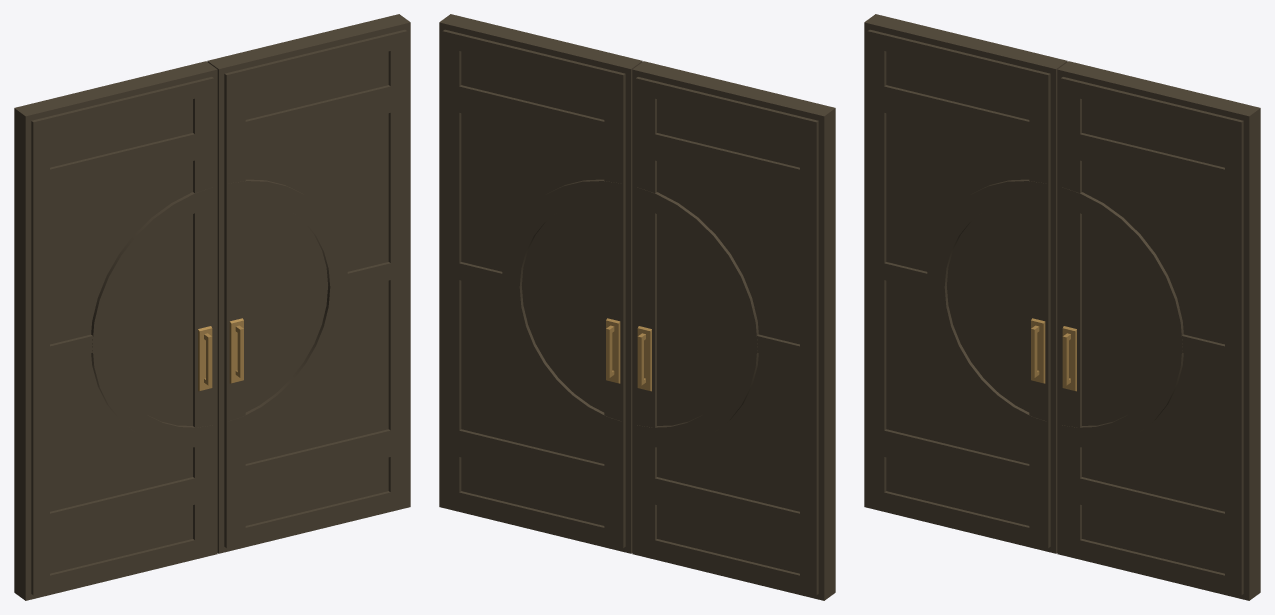
The model's file is Door_Double.glb.
3 renders of one model, left to right at view 1: azimuth 30°, elevation 25°; view 2: azimuth 150°, elevation 25°; view 3: azimuth 330°, elevation 25°, orthographic.
Visible parts, largest first — view 1: Door_Double; view 2: Door_Double; view 3: Door_Double.
Part boxes in pixels (x1,y1,x2,y2): Door_Double: (14,14,410,600); Door_Double: (439,14,835,600); Door_Double: (864,14,1260,600).
Size of the model in its own units: 1.04 by 1.26 by 0.1289.
